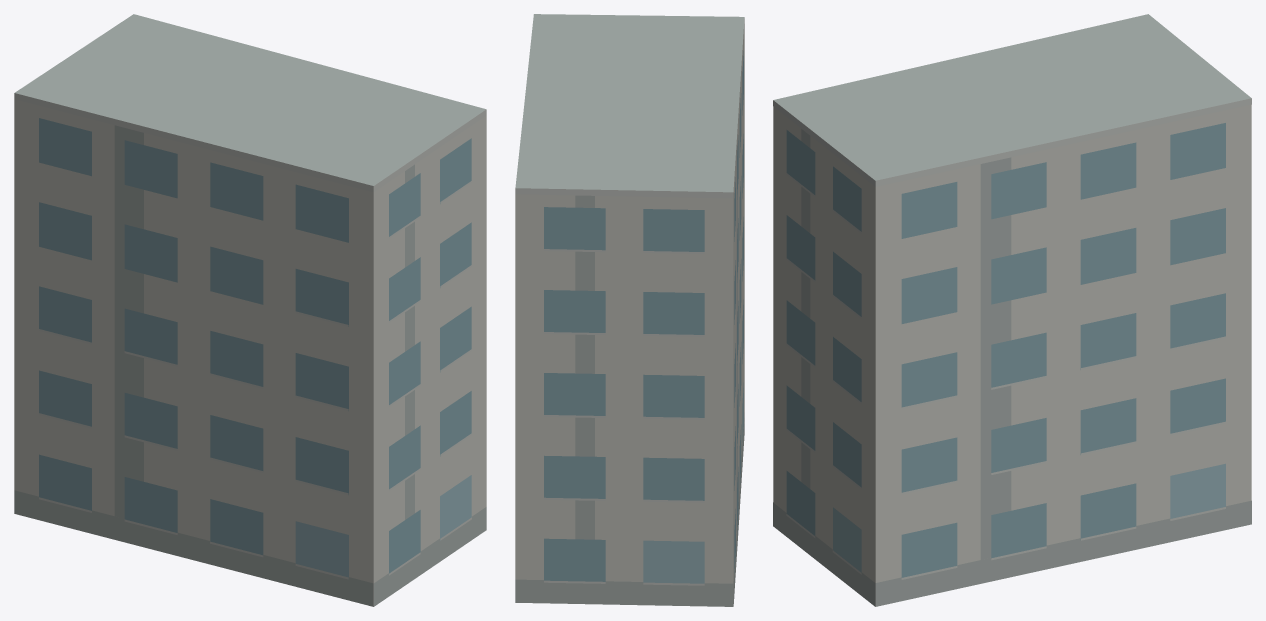
Rendered from survey-upis-32881722.glb.
3 views of the same model, side by side, from view 1: azimuth 30°, elevation 25°; view 2: azimuth 150°, elevation 25°; view 3: azimuth 270°, elevation 25° (orthographic). The views are drawn at different scales.
Visible parts, largest first — view 1: survey-upis-32881722.tmp; view 2: survey-upis-32881722.tmp; view 3: survey-upis-32881722.tmp.
Boxes of the visible parts, <box> form: survey-upis-32881722.tmp: <box>14,14,486,606</box>; survey-upis-32881722.tmp: <box>515,14,744,606</box>; survey-upis-32881722.tmp: <box>773,14,1251,606</box>.
Size of the model in its own units: 13.67 by 16.28 by 16.58.
